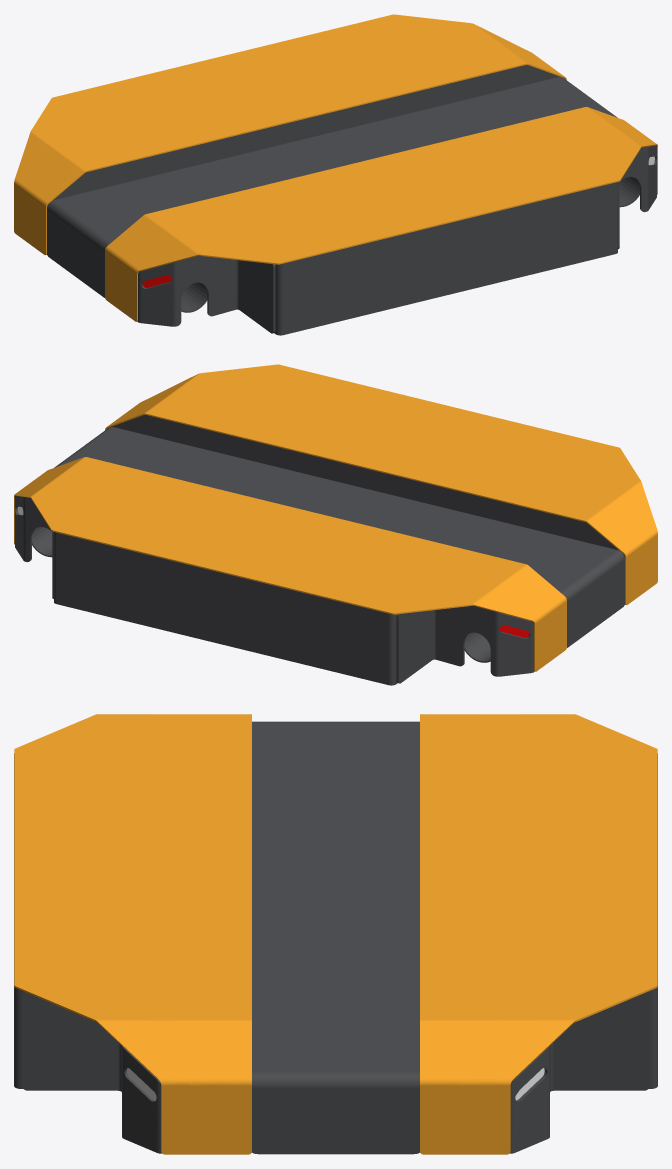
Rendered from omni_chassis.dae.
3 renders of one model, top to bottom at view 1: azimuth 30°, elevation 25°; view 2: azimuth 150°, elevation 25°; view 3: azimuth 270°, elevation 25°, orthographic. The views are drawn at different scales.
Parts seen in each view (by area): view 1: Dingo Top Level - Mecanum.2689, Dingo Top Level - Mecanum.2704, Dingo Top Level - Mecanum.078, Dingo Top Level - Mecanum.075, Dingo Top Level - Mecanum.077; view 2: Dingo Top Level - Mecanum.2689, Dingo Top Level - Mecanum.2704, Dingo Top Level - Mecanum.078, Dingo Top Level - Mecanum.075, Dingo Top Level - Mecanum.077; view 3: Dingo Top Level - Mecanum.2689, Dingo Top Level - Mecanum.078, Dingo Top Level - Mecanum.2704, Dingo Top Level - Mecanum.075.
Boxes of the visible parts, x1,y1,x2,y2 form: Dingo Top Level - Mecanum.2689: [14, 14, 657, 321]; Dingo Top Level - Mecanum.2704: [137, 145, 656, 335]; Dingo Top Level - Mecanum.078: [47, 77, 617, 293]; Dingo Top Level - Mecanum.075: [47, 65, 564, 297]; Dingo Top Level - Mecanum.077: [139, 177, 639, 312]; Dingo Top Level - Mecanum.2689: [14, 364, 657, 671]; Dingo Top Level - Mecanum.2704: [15, 495, 534, 685]; Dingo Top Level - Mecanum.078: [54, 427, 624, 643]; Dingo Top Level - Mecanum.075: [107, 415, 624, 647]; Dingo Top Level - Mecanum.077: [32, 527, 532, 662]; Dingo Top Level - Mecanum.2689: [14, 714, 657, 1154]; Dingo Top Level - Mecanum.078: [252, 721, 419, 1148]; Dingo Top Level - Mecanum.2704: [14, 753, 657, 1153]; Dingo Top Level - Mecanum.075: [251, 1145, 420, 1154].
Size of the model in its own units: 0.6863 by 0.5172 by 0.0948.
